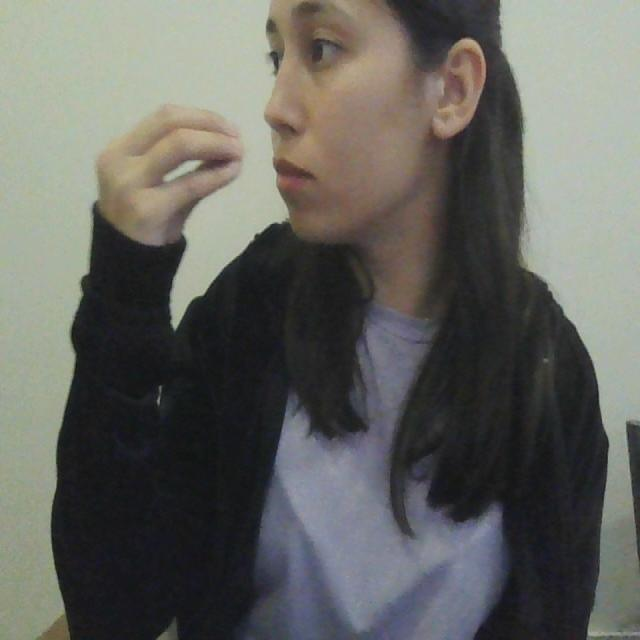Yemek: (95, 103, 317, 206)
